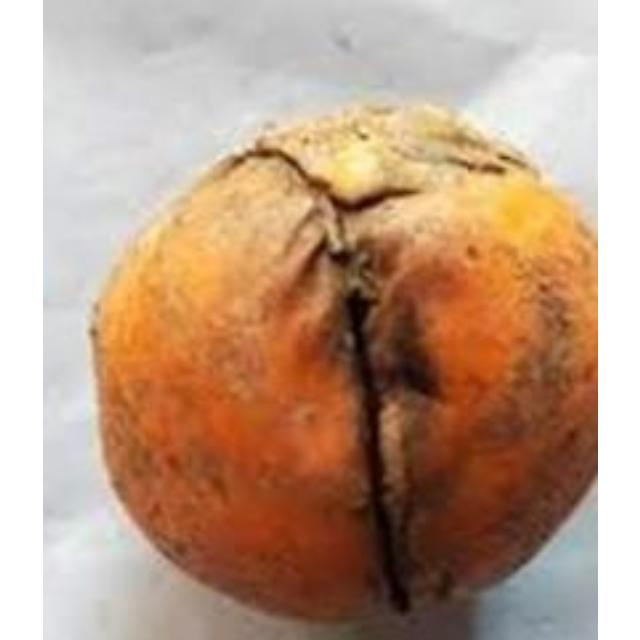damaged: (84, 101, 594, 627)
